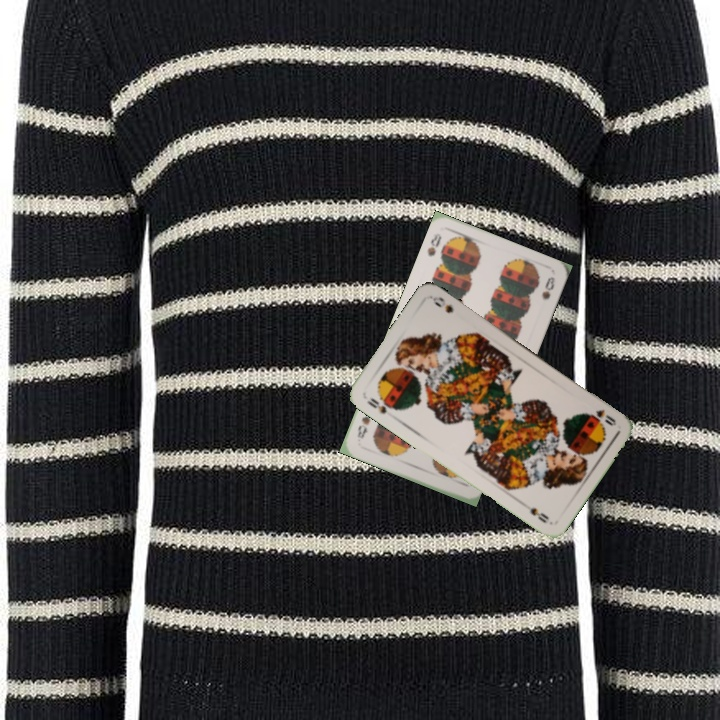S8: (423, 231, 444, 259)
SO: (591, 405, 619, 429), (363, 393, 389, 417)
